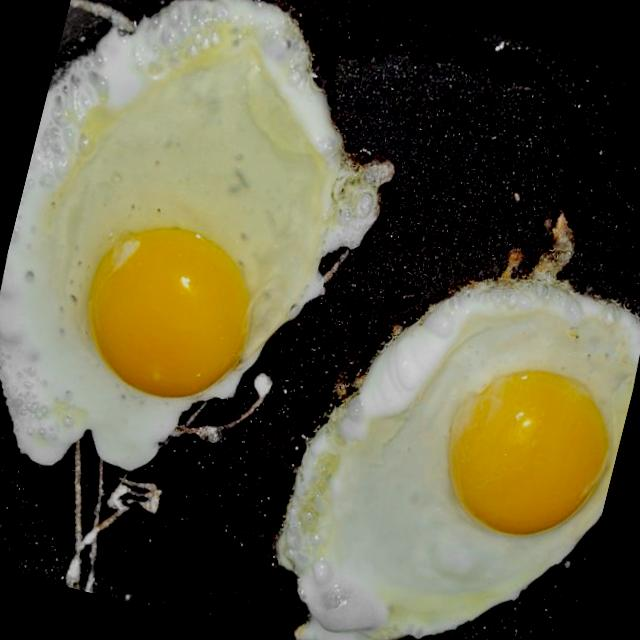Egg: (0, 0, 436, 534), (237, 228, 640, 640)
